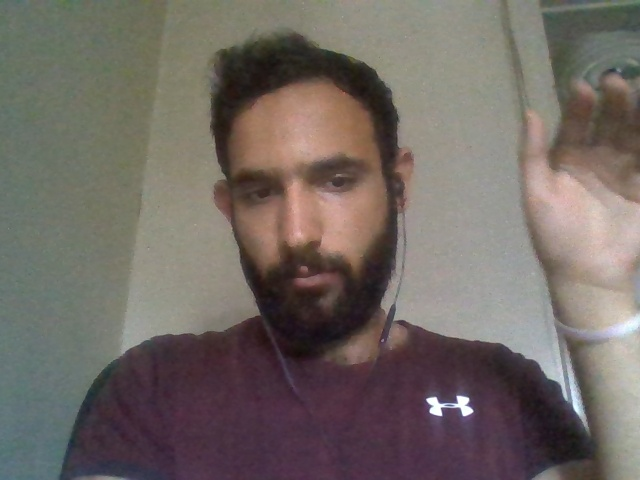Snake: (494, 72, 640, 480)
